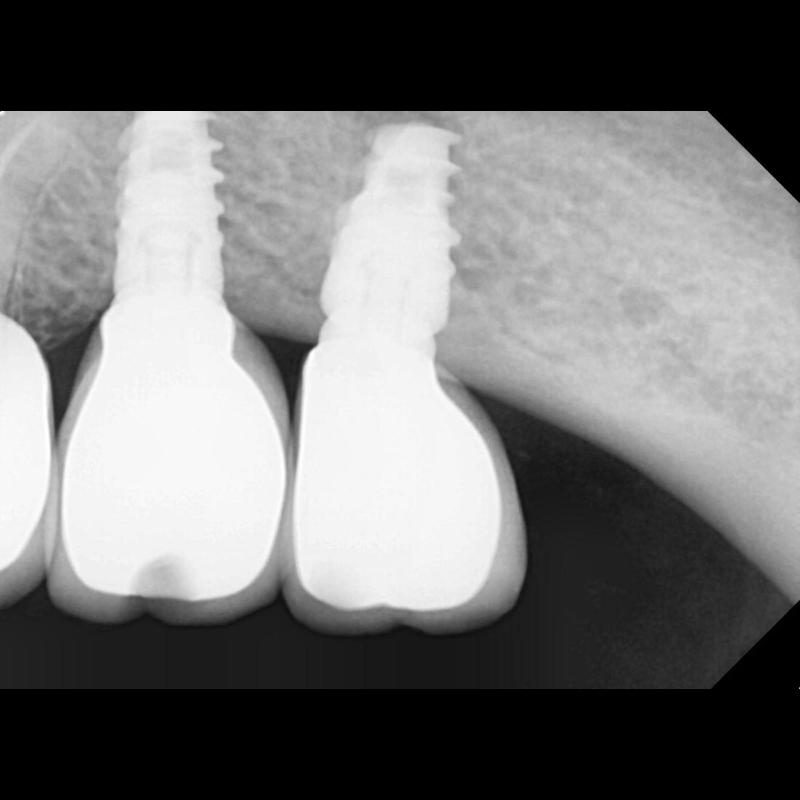NORIS: (316, 118, 464, 324)
